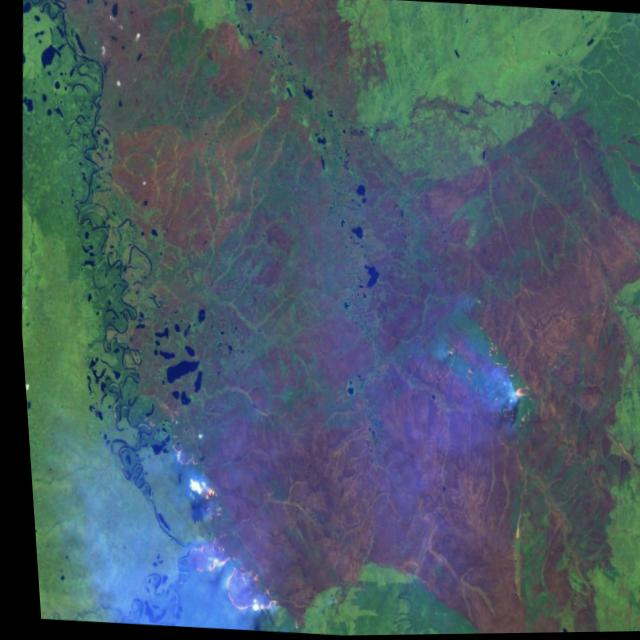fire: (163, 472, 293, 634), (497, 372, 533, 414)
